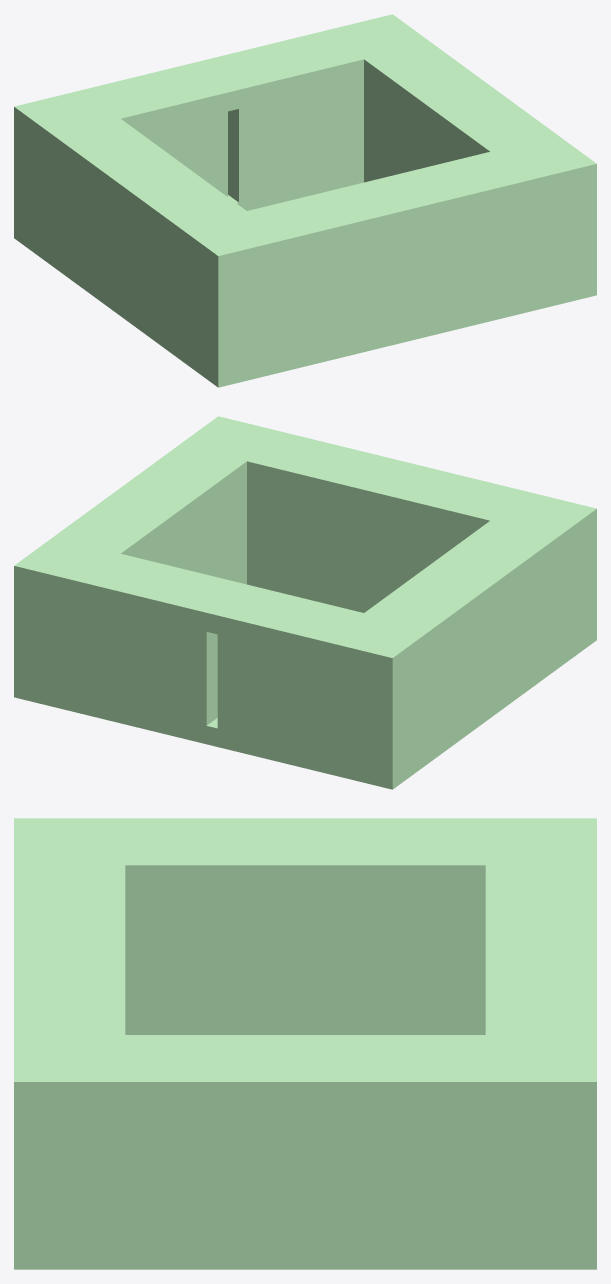
Rendered from DumpPolySide.gltf.
3 renders of one model, top to bottom at view 1: azimuth 30°, elevation 25°; view 2: azimuth 150°, elevation 25°; view 3: azimuth 270°, elevation 25°, orthographic. The views are drawn at different scales.
Visible parts, largest first — view 1: logicDumpPolySide_pv0x2213758; view 2: logicDumpPolySide_pv0x2213758; view 3: logicDumpPolySide_pv0x2213758.
Boxes of the visible parts, box(x1,y1,x2,y2) form: logicDumpPolySide_pv0x2213758: box(14, 14, 596, 387); logicDumpPolySide_pv0x2213758: box(14, 416, 596, 789); logicDumpPolySide_pv0x2213758: box(14, 818, 596, 1269).
Size of the model in its own units: 214 by 71.09 by 200.
